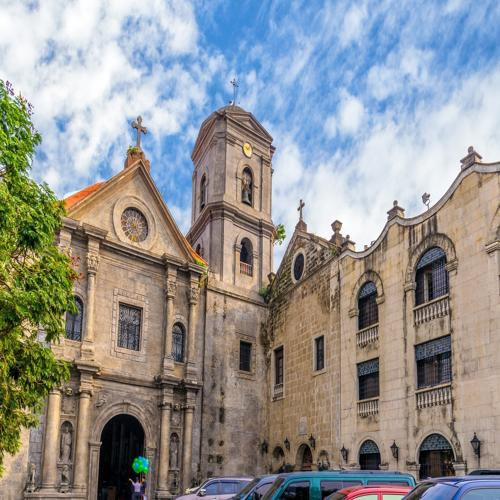San Agustin Church: (46, 71, 275, 500)
